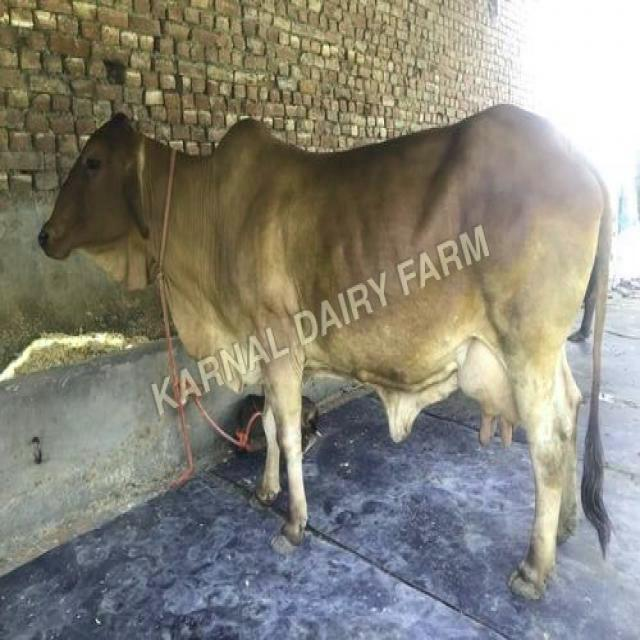cow: (40, 105, 610, 597)
